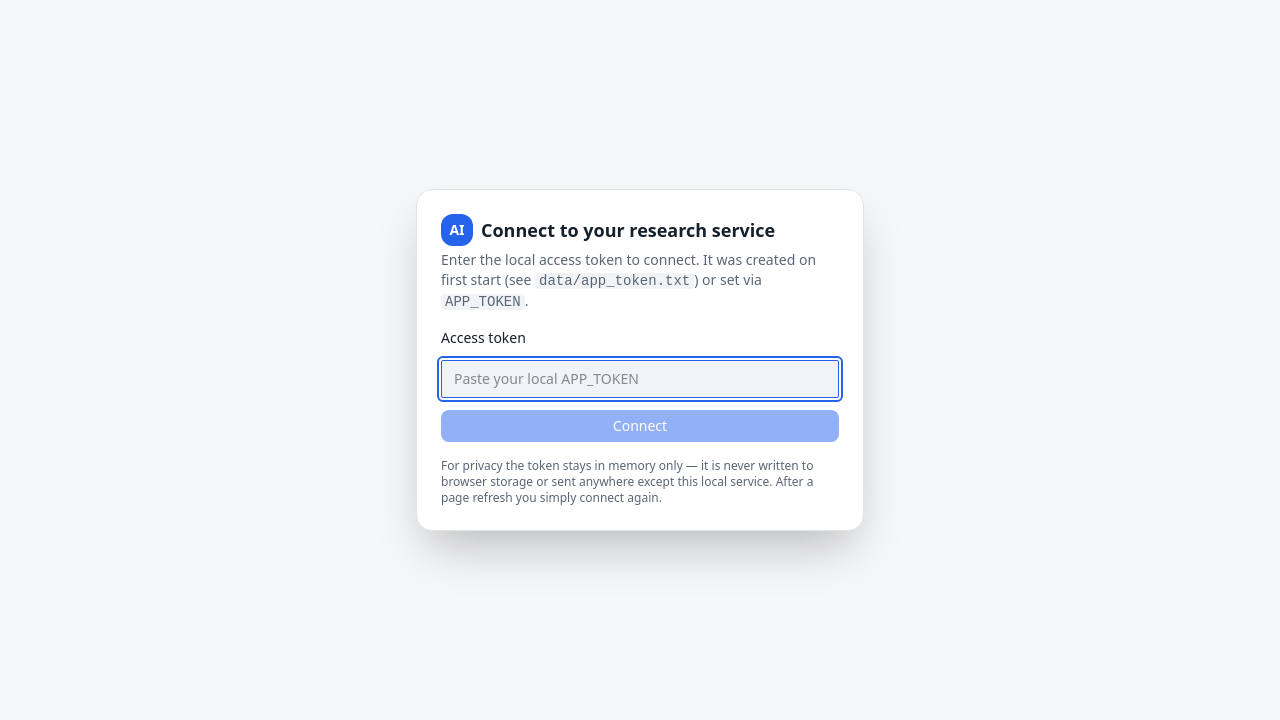
Test case: diagnostics panel › shows duration, tokens, coverage, counts and review state
The width and height of the screenshot is (1280, 720).
Type "test-token-123" into the password field labelled "Access token" at (640, 379), box [441,360,839,398]
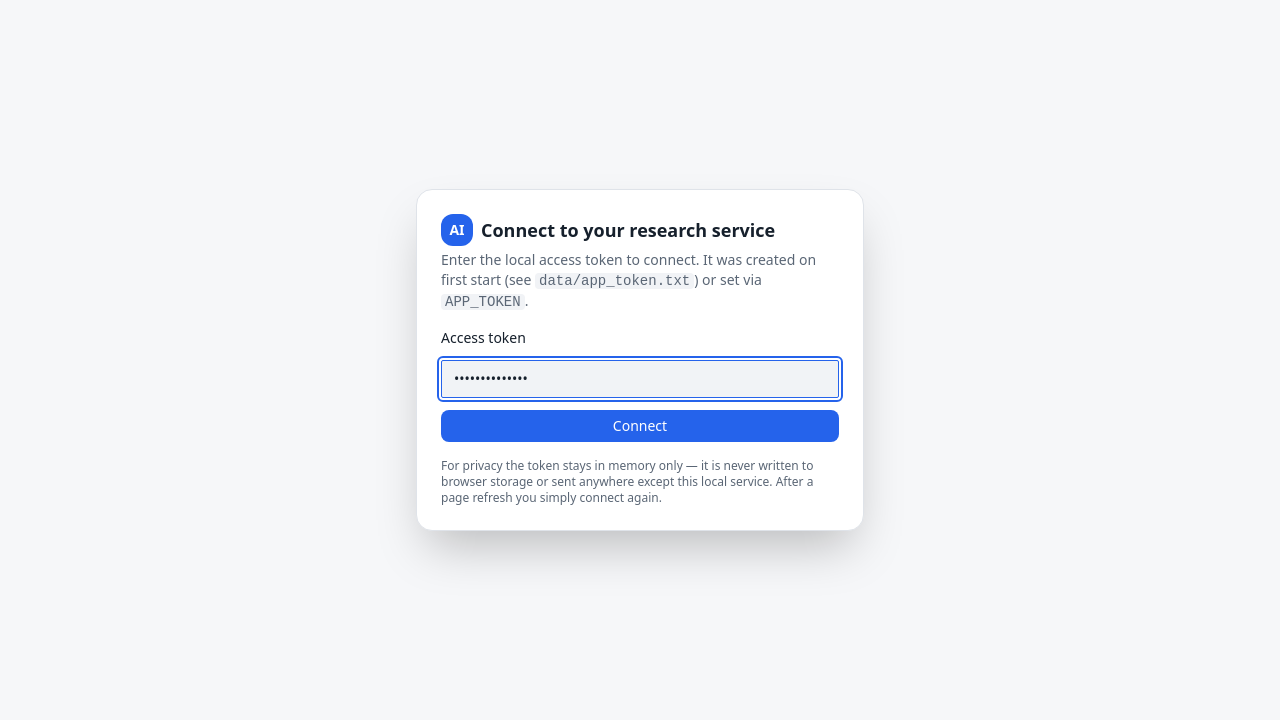
Click the button "Connect" at (640, 426), box [441,410,839,442]
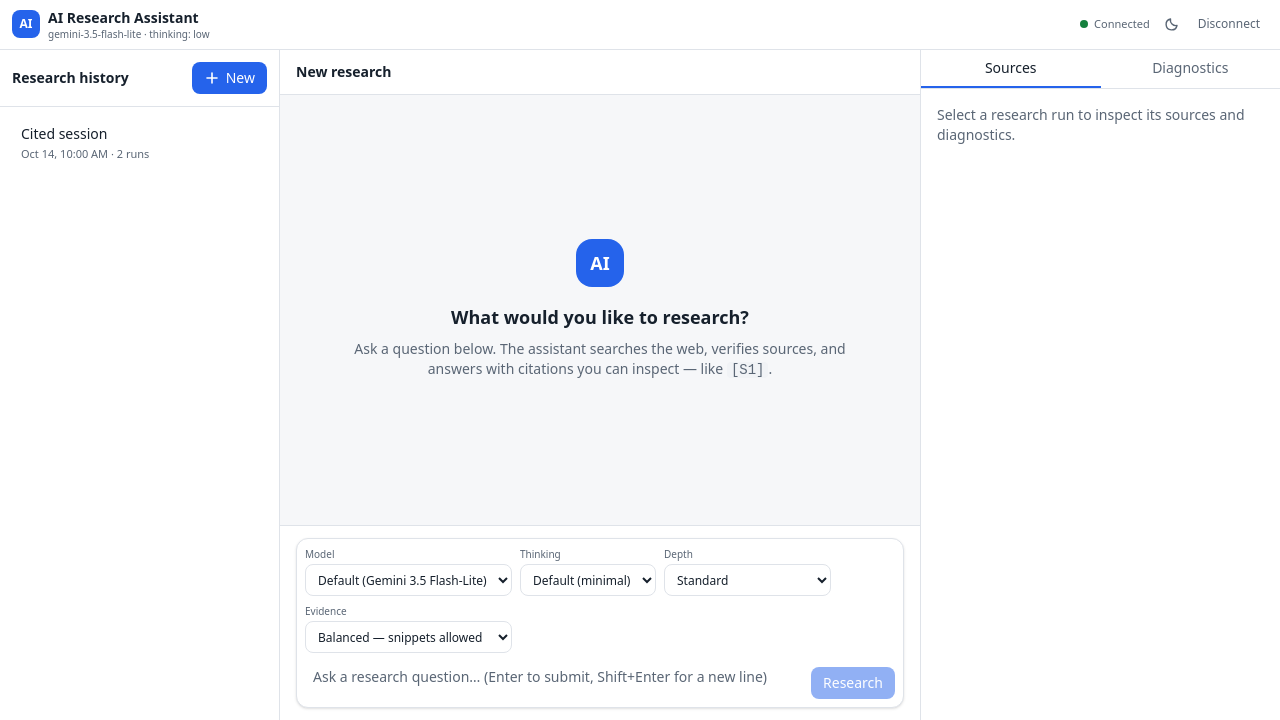
Check: the heading "What would you like to research?" is shown, box [451,303,749,331]
Click the text "Cited session" at (64, 133), box [21,124,107,142]
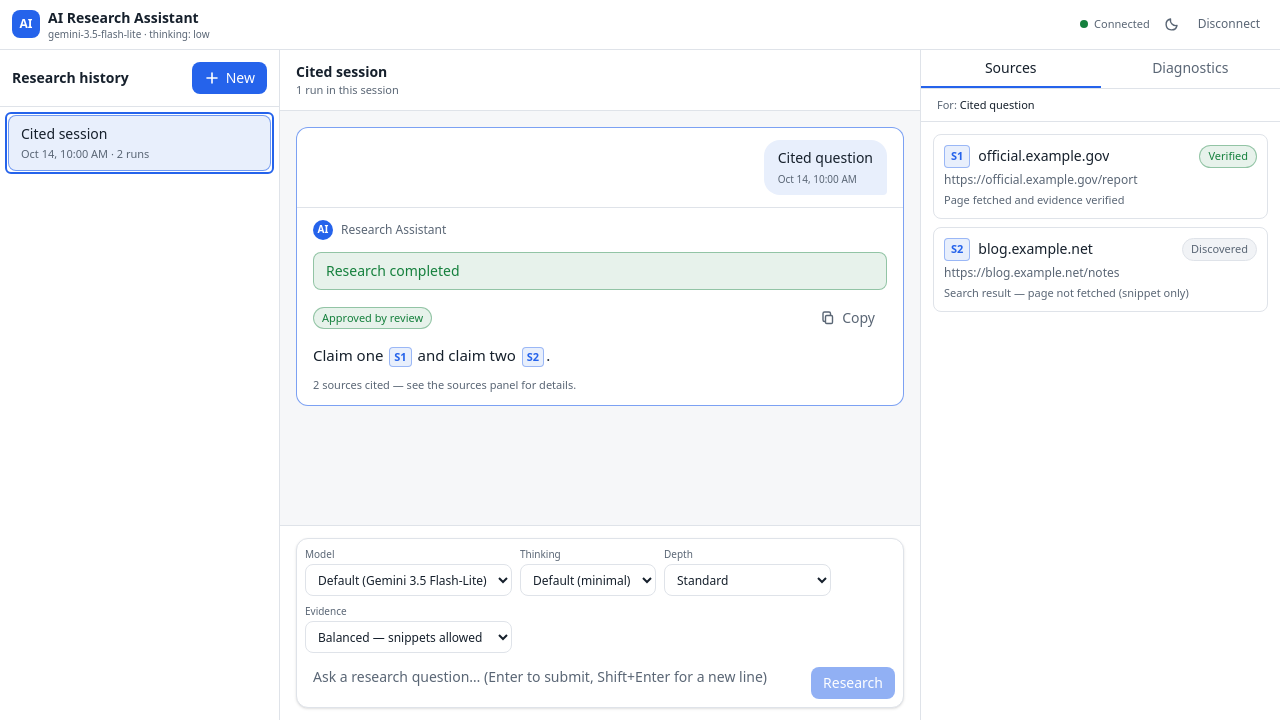
Click the tab "Diagnostics" at (1190, 68), box [1100,50,1279,88]
(page scrolled)
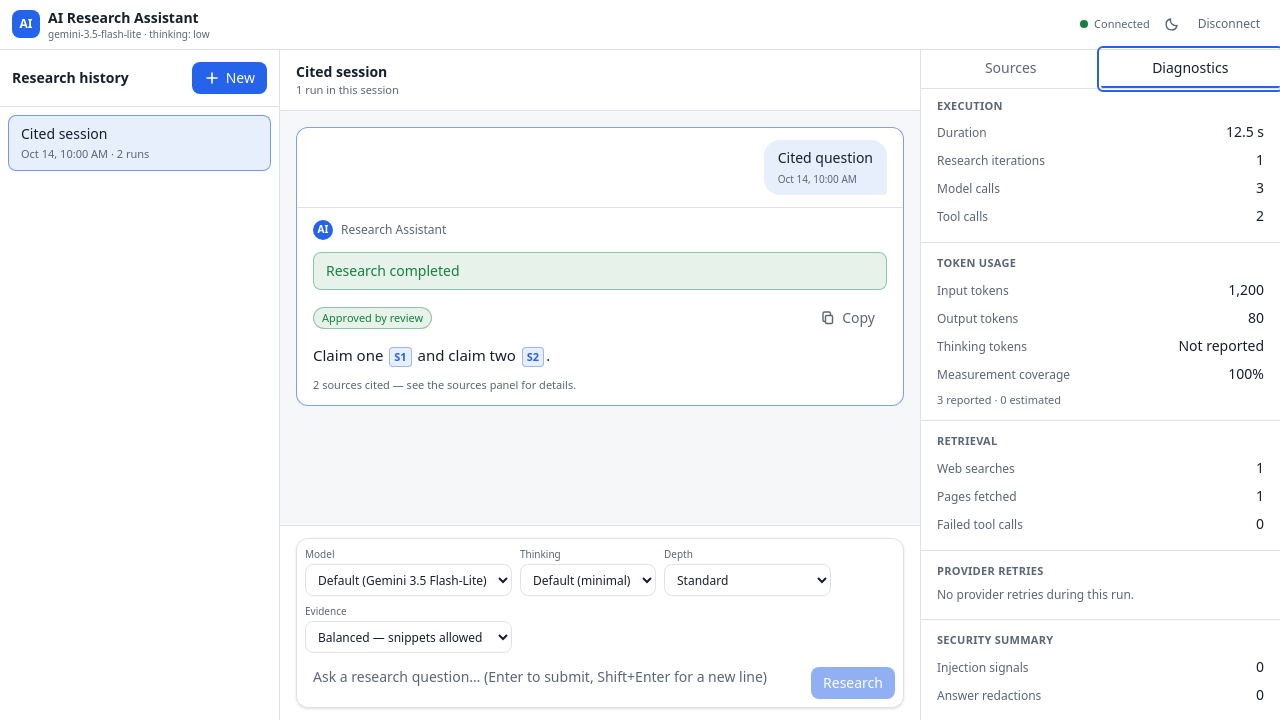
Check: the text "Duration" is shown, box [937,125,987,141]
Check: the text "12.5 s" is shown, box [1226,122,1264,142]
Check: the text "Input tokens" is shown, box [937,282,1009,298]
